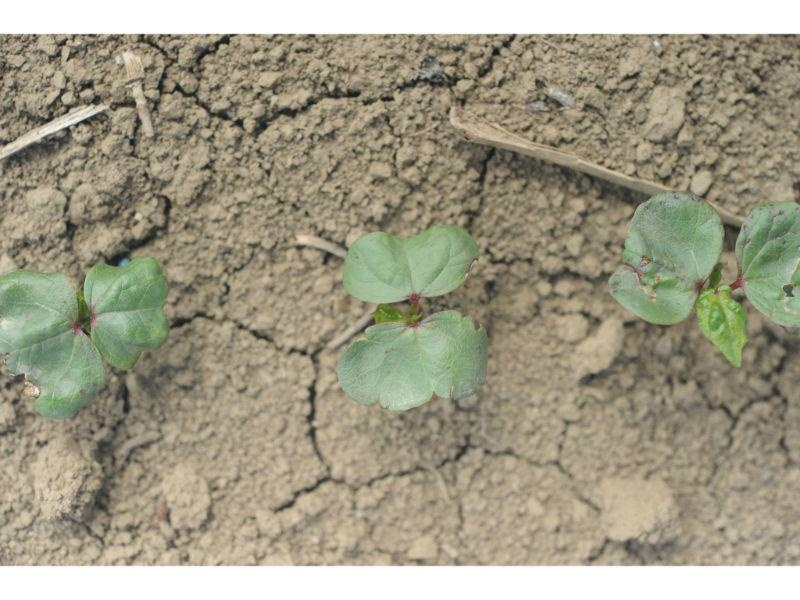cotton: (611, 193, 800, 369), (336, 223, 491, 413), (0, 257, 173, 422)
